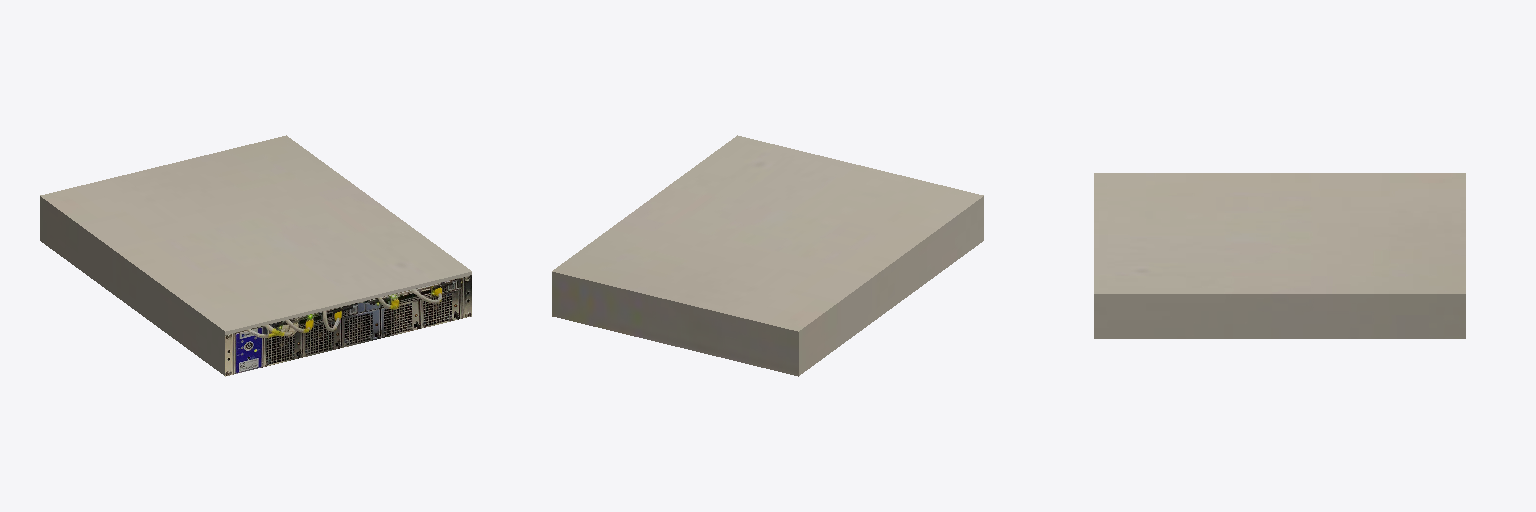
3 views of the same model, side by side, from view 1: azimuth 30°, elevation 25°; view 2: azimuth 150°, elevation 25°; view 3: azimuth 270°, elevation 25° (orthographic).
Visible parts, largest first — view 1: Box001; view 2: Box001; view 3: Box001.
Part boxes in pixels (bbox=[...]): Box001: bbox=[40, 135, 471, 376]; Box001: bbox=[552, 135, 983, 376]; Box001: bbox=[1094, 173, 1465, 338].
Bounding box in the file's own units: 22.43 × 3.89 × 29.23.
1 materials, 1 textured.